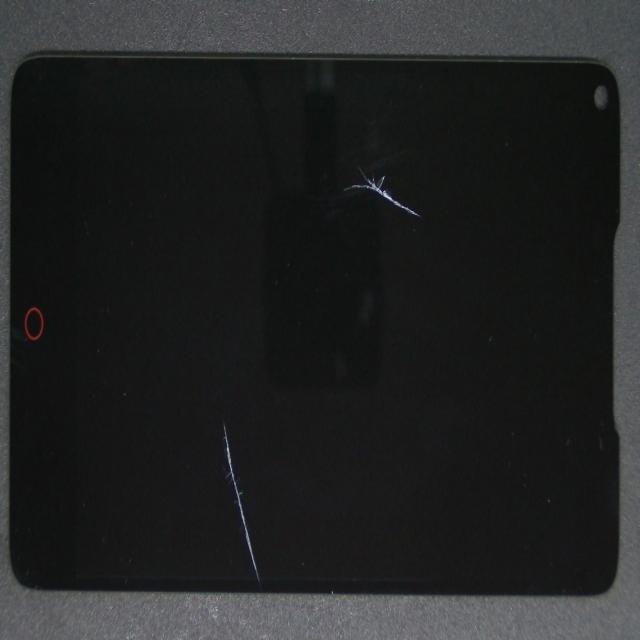scratch: (106, 101, 338, 640), (218, 79, 555, 253)
